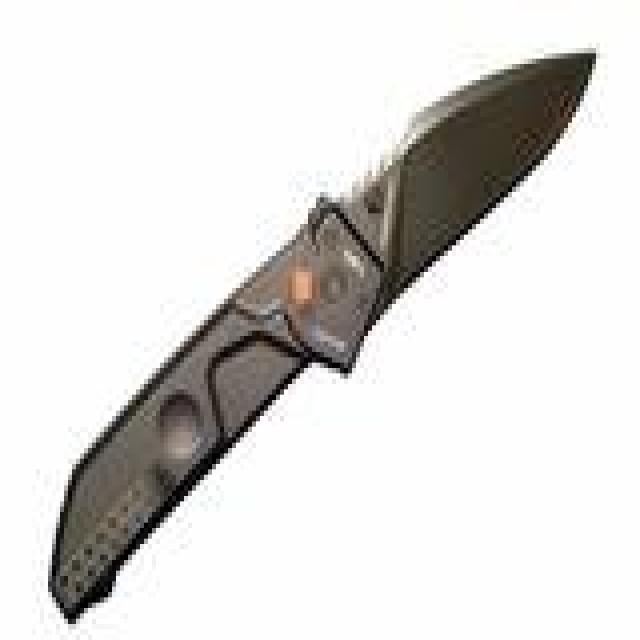Knife: (21, 48, 603, 618)
